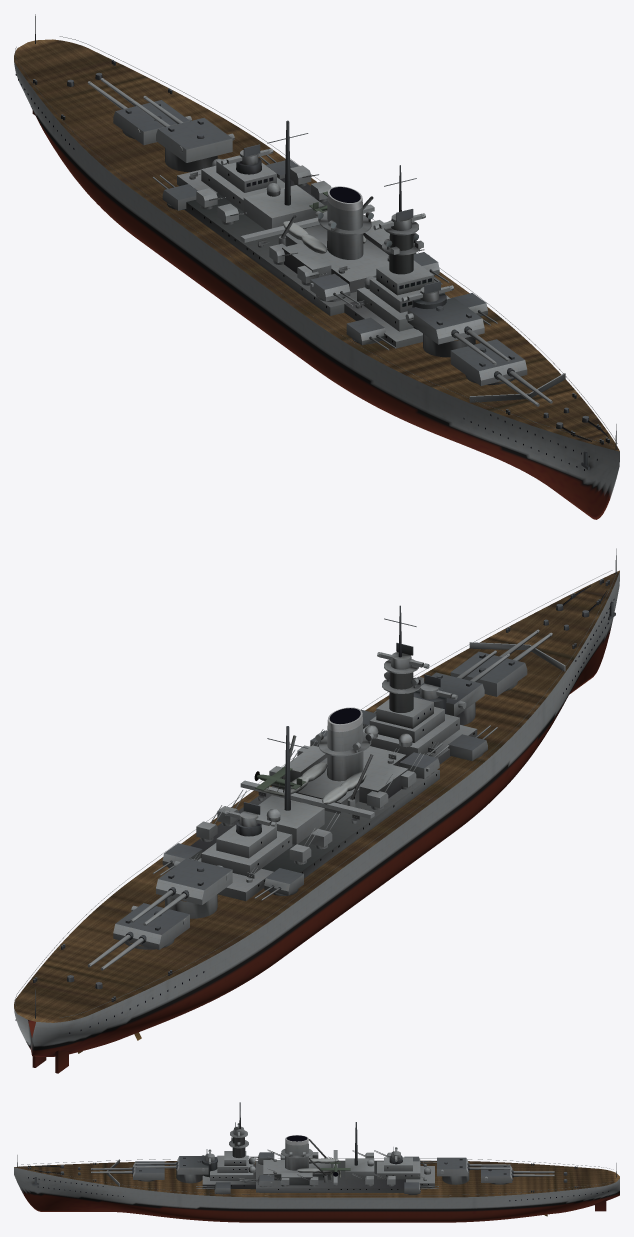
File: model_built.glb
3 views of the same model, one above another, from view 1: azimuth 30°, elevation 25°; view 2: azimuth 150°, elevation 25°; view 3: azimuth 270°, elevation 25° (orthographic). The views are drawn at different scales.
Visible parts, largest first — view 1: hull, superstructure, turret_caesar, turret_bruno, turret_anton, turret_dora; view 2: hull, superstructure, turret_caesar, turret_dora, turret_anton, turret_bruno; view 3: hull, superstructure, turret_caesar, turret_bruno, turret_dora, turret_anton, aircraft.
Boxes of the visible parts, x1,y1,x2,y2 form: hull: (14, 14, 619, 519); superstructure: (152, 120, 497, 350); turret_caesar: (130, 96, 234, 162); turret_bruno: (405, 297, 509, 365); turret_anton: (450, 339, 552, 406); turret_dora: (87, 78, 191, 145); hull: (14, 548, 619, 1073); superstructure: (152, 605, 497, 901); turret_caesar: (130, 858, 232, 925); turret_dora: (87, 903, 189, 970); turret_anton: (450, 629, 552, 696); turret_bruno: (421, 650, 509, 716); hull: (14, 1155, 619, 1222); superstructure: (196, 1102, 438, 1194); turret_caesar: (437, 1157, 510, 1176); turret_bruno: (135, 1155, 208, 1174); turret_dora: (481, 1166, 554, 1182); turret_anton: (91, 1161, 164, 1179); aircraft: (320, 1159, 350, 1177).
Bounding box in the file's own units: 36 × 50 × 250.
Materials: 2 (2 with a texture image).
